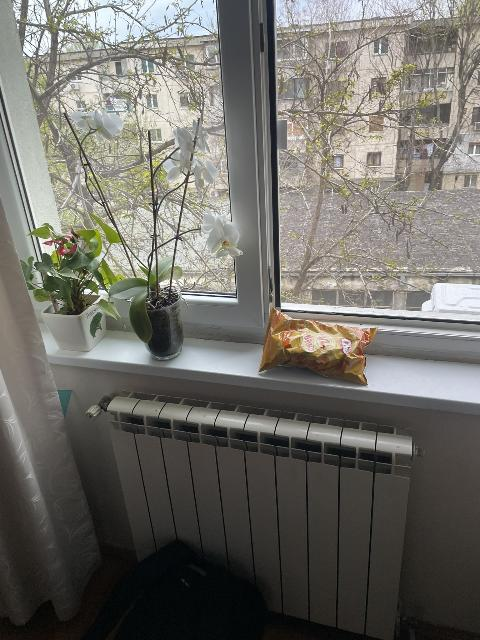Chio Hula Hoops Cheese 70g: (261, 308, 375, 380)
